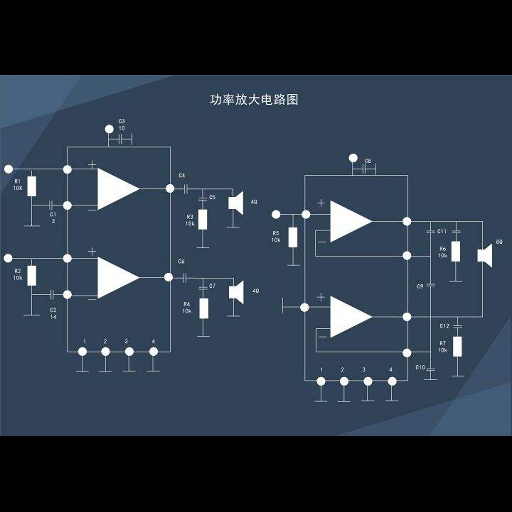amplifier: (328, 292, 375, 341), (96, 255, 141, 303), (96, 165, 140, 213), (330, 198, 374, 243)
capacitor: (178, 270, 191, 286), (45, 198, 57, 212), (46, 287, 56, 302), (180, 182, 191, 195), (426, 278, 437, 291), (359, 162, 369, 175), (422, 227, 436, 236), (450, 226, 462, 234), (426, 366, 436, 375)
firstresistance: (448, 239, 464, 266), (284, 225, 300, 249), (451, 334, 466, 359), (198, 295, 212, 321), (197, 208, 212, 232), (25, 263, 38, 289), (26, 174, 39, 199)
loudspeaker: (476, 241, 495, 270), (224, 191, 246, 215), (226, 281, 247, 305)
